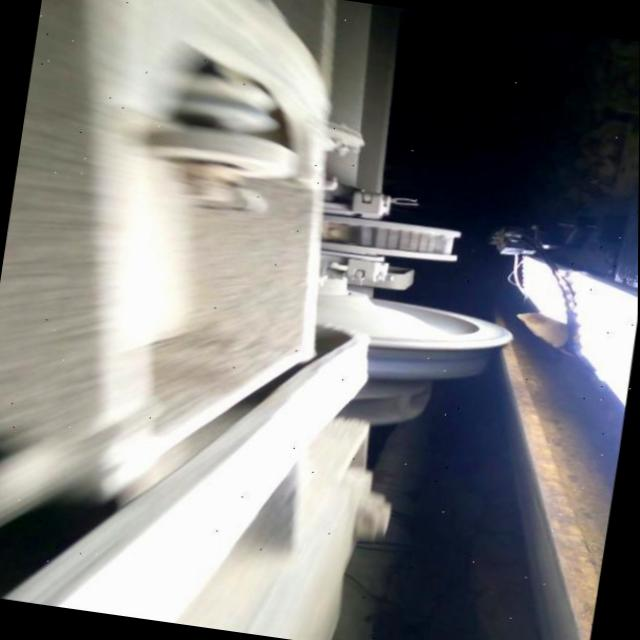Wheel: (319, 293, 515, 380)
